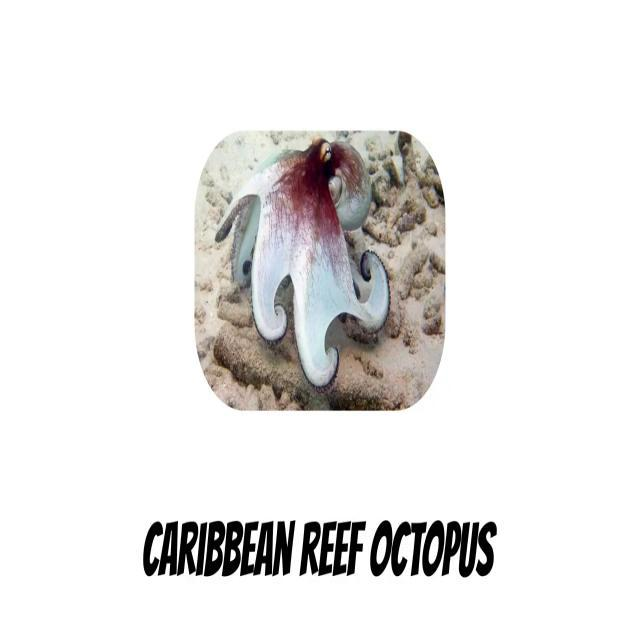octopus: (214, 135, 390, 390)
